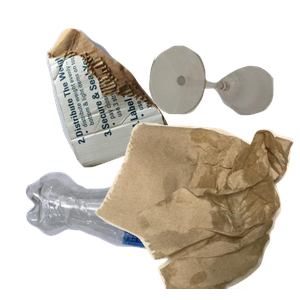cardboard: (44, 26, 209, 186)
glass: (147, 43, 300, 151)
plastic: (23, 169, 243, 300)
trash: (92, 120, 300, 300)
